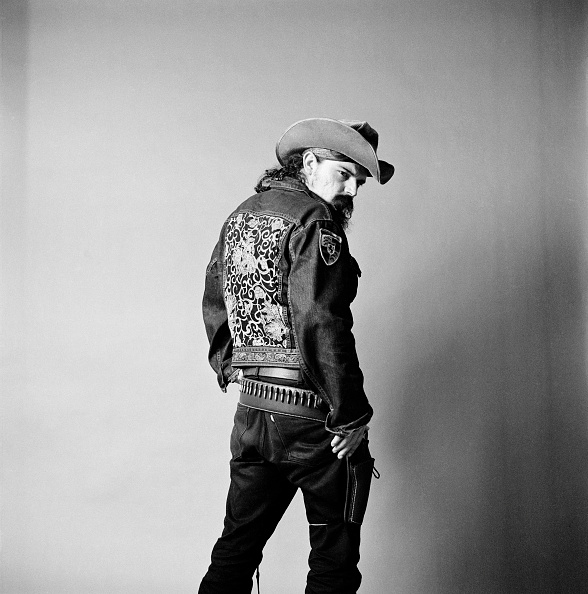em pe: (174, 124, 403, 594)
